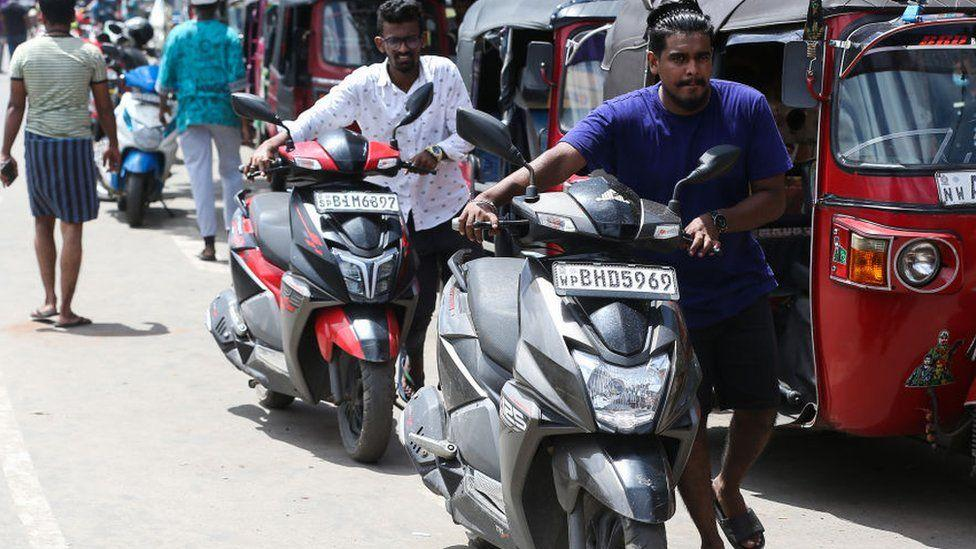motorbike: (403, 108, 745, 549), (207, 83, 438, 465), (99, 45, 185, 227)
threewheel: (725, 1, 976, 442)
